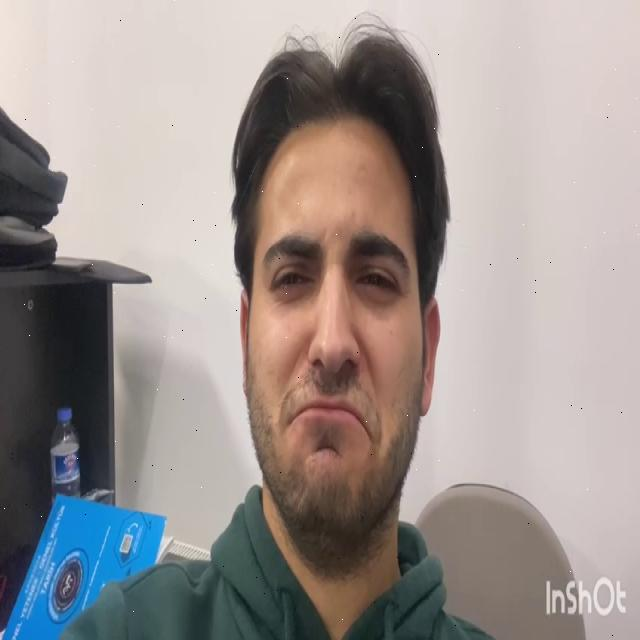sad: (247, 139, 423, 507)
